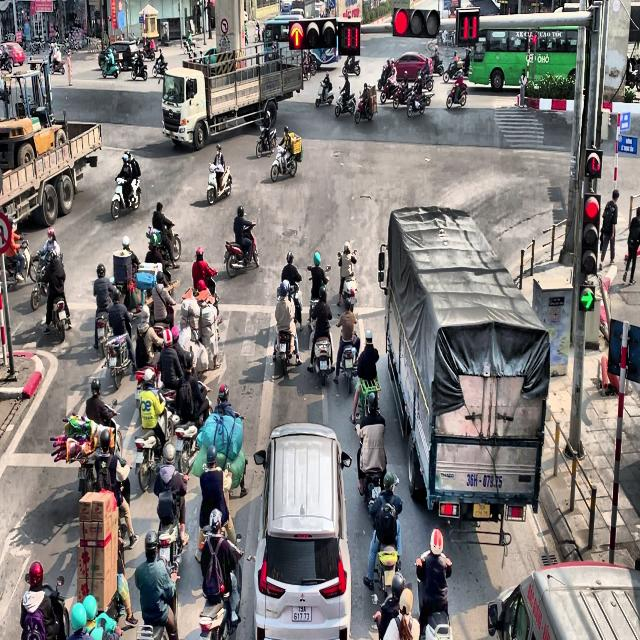BUS: (468, 9, 583, 91)
CAR: (251, 422, 352, 639)
MOTORBIKE: (134, 399, 179, 492), (198, 550, 244, 640), (155, 475, 189, 577), (0, 233, 37, 291), (30, 250, 63, 310), (224, 222, 259, 278), (41, 282, 71, 342), (308, 317, 334, 385), (104, 331, 131, 389), (337, 326, 360, 394), (307, 265, 331, 329), (146, 223, 181, 264), (110, 174, 141, 218), (274, 325, 296, 375), (206, 162, 232, 204), (270, 144, 298, 181), (288, 280, 303, 330), (256, 124, 276, 158), (334, 86, 356, 116), (446, 79, 467, 108), (101, 49, 121, 78), (354, 93, 373, 123), (406, 88, 425, 117), (315, 80, 334, 108), (131, 50, 148, 80), (380, 78, 400, 102), (414, 68, 434, 91), (152, 48, 168, 76), (443, 60, 463, 82), (342, 55, 360, 75), (302, 52, 316, 77)
TRAFFIC_LIGHT: (581, 192, 600, 274), (392, 7, 441, 37), (455, 7, 480, 45), (339, 22, 360, 54), (584, 148, 602, 178), (288, 22, 304, 50)
TRUCK: (378, 204, 551, 544), (161, 43, 303, 151)
